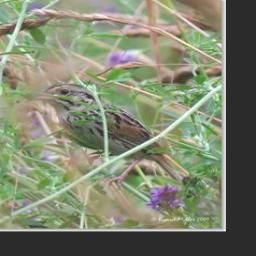Sparrow: (34, 83, 185, 192)
